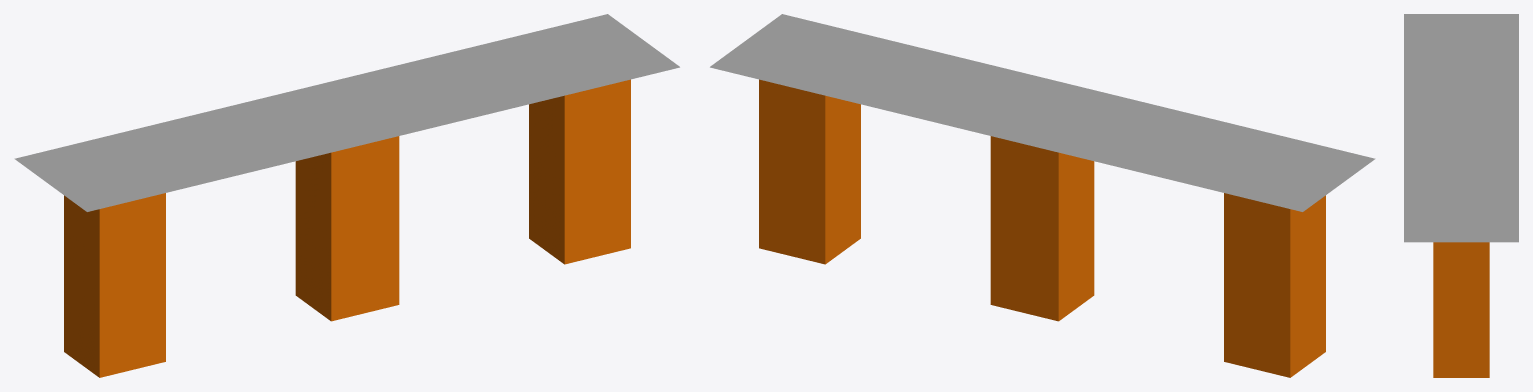
File: RisingCarstoperA.fbx
3 renders of one model, left to right at view 1: azimuth 30°, elevation 25°; view 2: azimuth 150°, elevation 25°; view 3: azimuth 270°, elevation 25°, orthographic. The views are drawn at different scales.
Visible parts, largest first — view 1: RisingCarStoperSTOPA, RisingCarstoperA; view 2: RisingCarStoperSTOPA, RisingCarstoperA; view 3: RisingCarstoperA, RisingCarStoperSTOPA.
Part boxes in pixels (x1,y1,x2,y2): RisingCarStoperSTOPA: (64, 35, 630, 377); RisingCarstoperA: (14, 14, 679, 211); RisingCarStoperSTOPA: (759, 35, 1325, 377); RisingCarstoperA: (710, 14, 1375, 211); RisingCarstoperA: (1404, 14, 1518, 242); RisingCarStoperSTOPA: (1433, 26, 1489, 377).
Size of the model in its own units: 153 by 46.03 by 32.51.
Materials: 1 (1 with a texture image).
